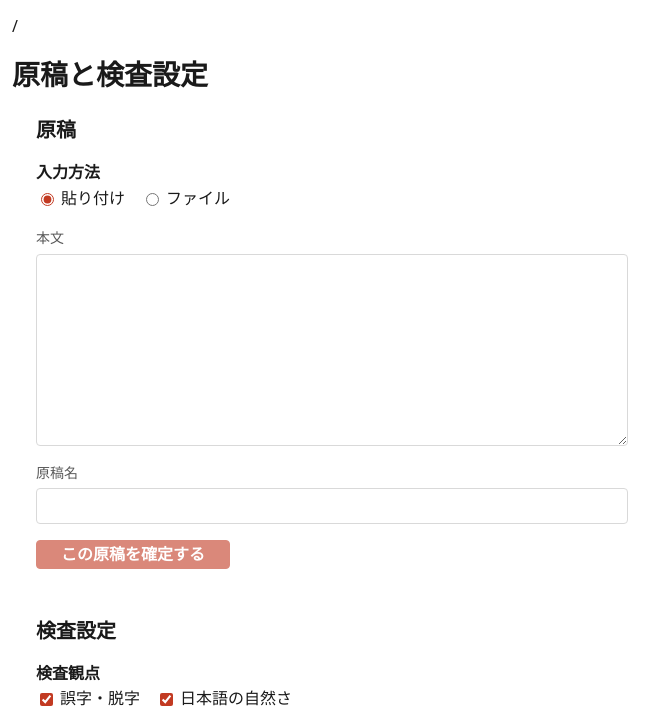
HomePage › W7-9: 検査開始に成功すると /runs/:id へ遷移する
Type "原稿A" into the field labelled "原稿名".
click(332, 506); type("原稿A")  # box [36,488,628,524]
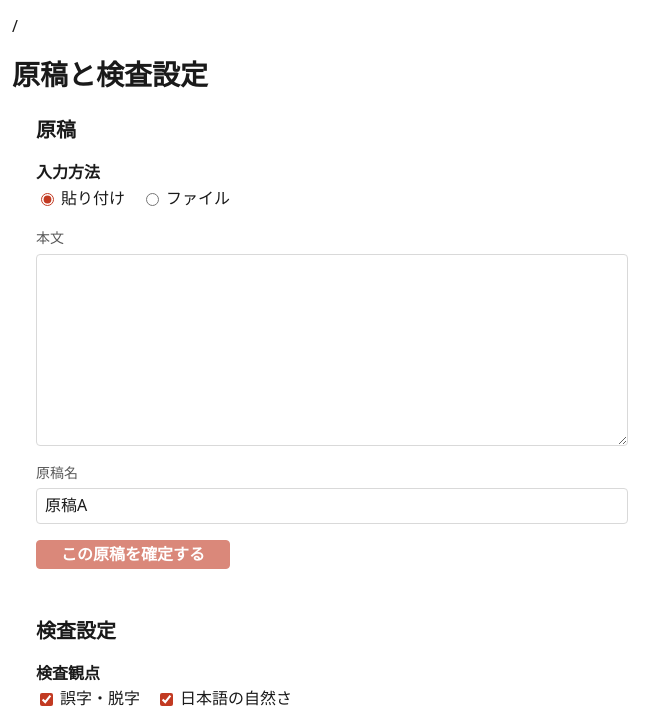
Type "本文" into the text box labelled "本文".
click(332, 350); type("本文")  # box [36,254,628,446]
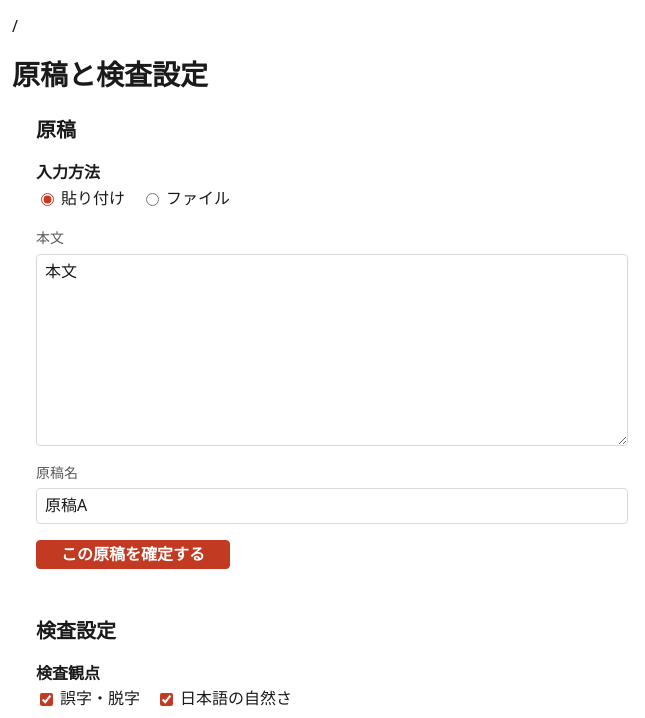
Click the button "この原稿を確定する".
click(133, 554)  # box [36,540,230,569]
(page scrolled)
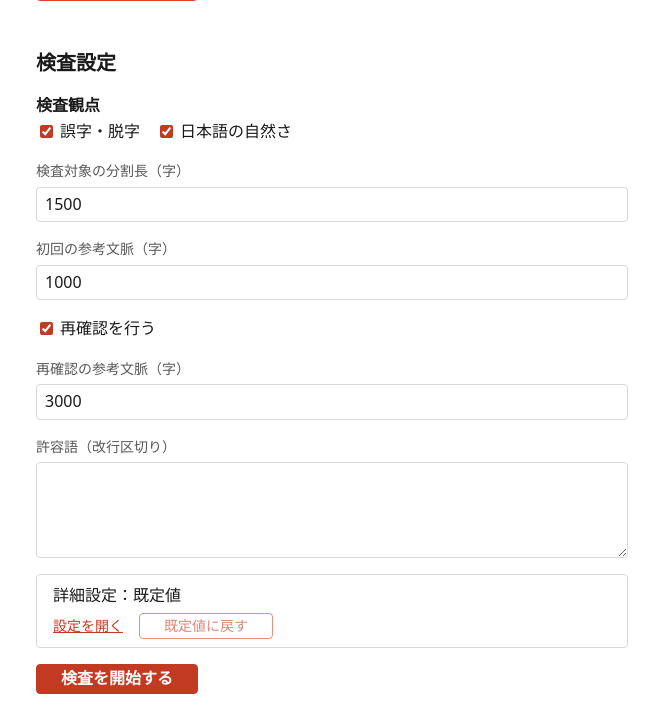
Result: the button "検査を開始する" is enabled
Click the button "検査を開始する".
click(117, 679)  # box [36,664,198,694]
(page scrolled)
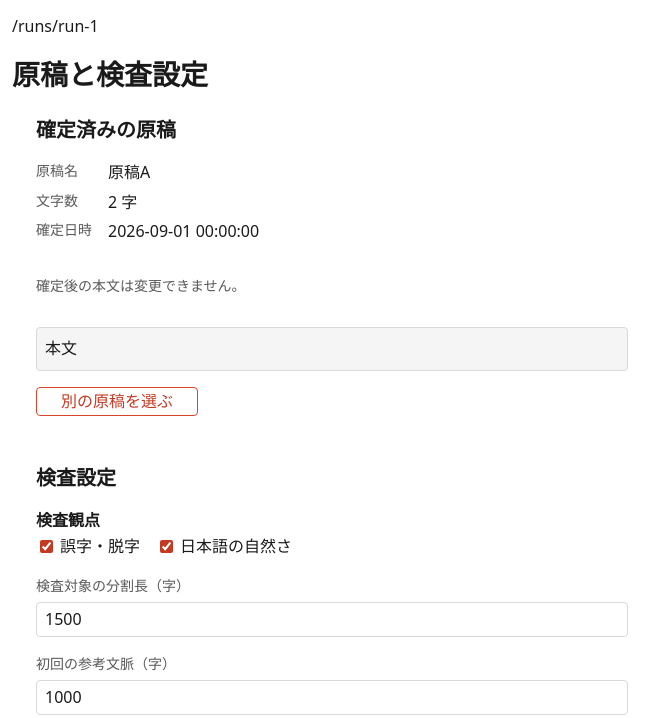
Result: the text with test id "location" reads "/runs/run-1" at [12,15,99,37]
